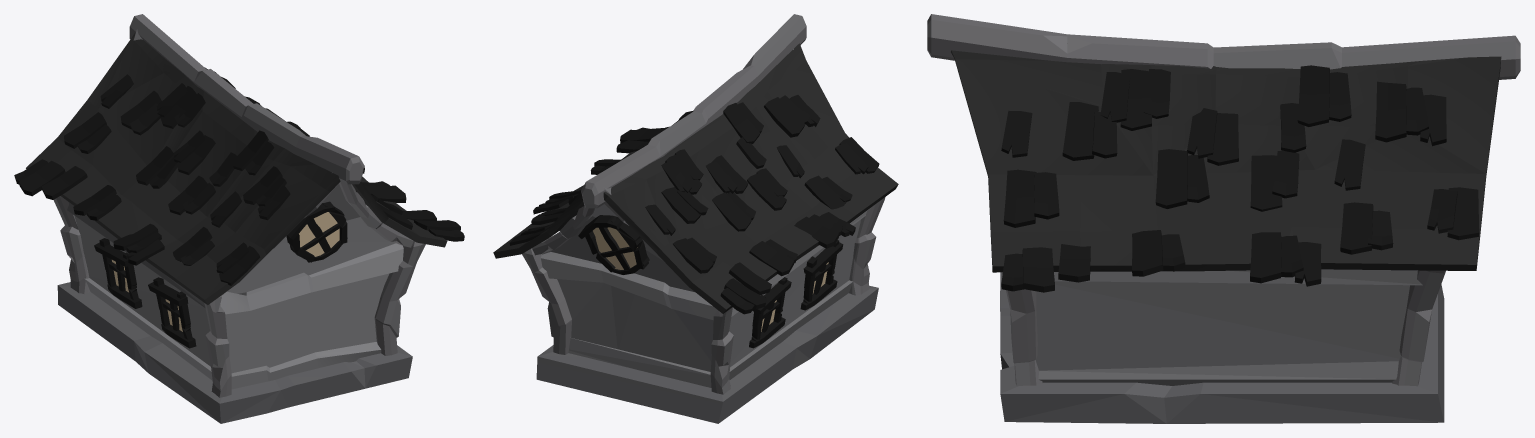
Rendered from WF_LP_HT_Build_HouseRoom.001.1.fbx.
3 views of the same model, side by side, from view 1: azimuth 30°, elevation 25°; view 2: azimuth 150°, elevation 25°; view 3: azimuth 270°, elevation 25° (orthographic). The views are drawn at different scales.
Parts seen in each view (by area): view 1: WF_LP_HT_Build_HouseRoom.001.1; view 2: WF_LP_HT_Build_HouseRoom.001.1; view 3: WF_LP_HT_Build_HouseRoom.001.1.
Boxes of the visible parts, x1,y1,x2,y2 form: WF_LP_HT_Build_HouseRoom.001.1: [14, 14, 464, 423]; WF_LP_HT_Build_HouseRoom.001.1: [493, 14, 898, 423]; WF_LP_HT_Build_HouseRoom.001.1: [927, 14, 1520, 423].
Bounding box in the file's own units: 5.55 × 4.74 × 7.24.
